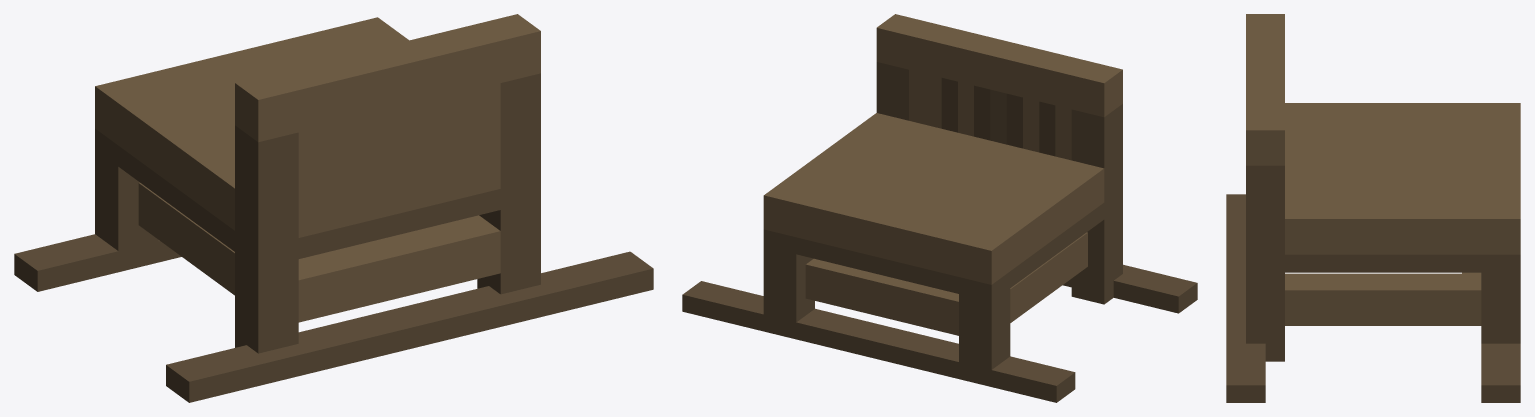
Rendered from mecedora_nogal_tallada_01.glb.
3 views of the same model, side by side, from view 1: azimuth 30°, elevation 25°; view 2: azimuth 150°, elevation 25°; view 3: azimuth 270°, elevation 25° (orthographic). The views are drawn at different scales.
Parts seen in each view (by area): view 1: mecedora_nogal_tallada; view 2: mecedora_nogal_tallada; view 3: mecedora_nogal_tallada.
Boxes of the visible parts, x1,y1,x2,y2 form: mecedora_nogal_tallada: [14, 14, 653, 402]; mecedora_nogal_tallada: [682, 14, 1197, 402]; mecedora_nogal_tallada: [1226, 14, 1520, 402].
Size of the model in its own units: 1.64 by 0.9286 by 1.07.
